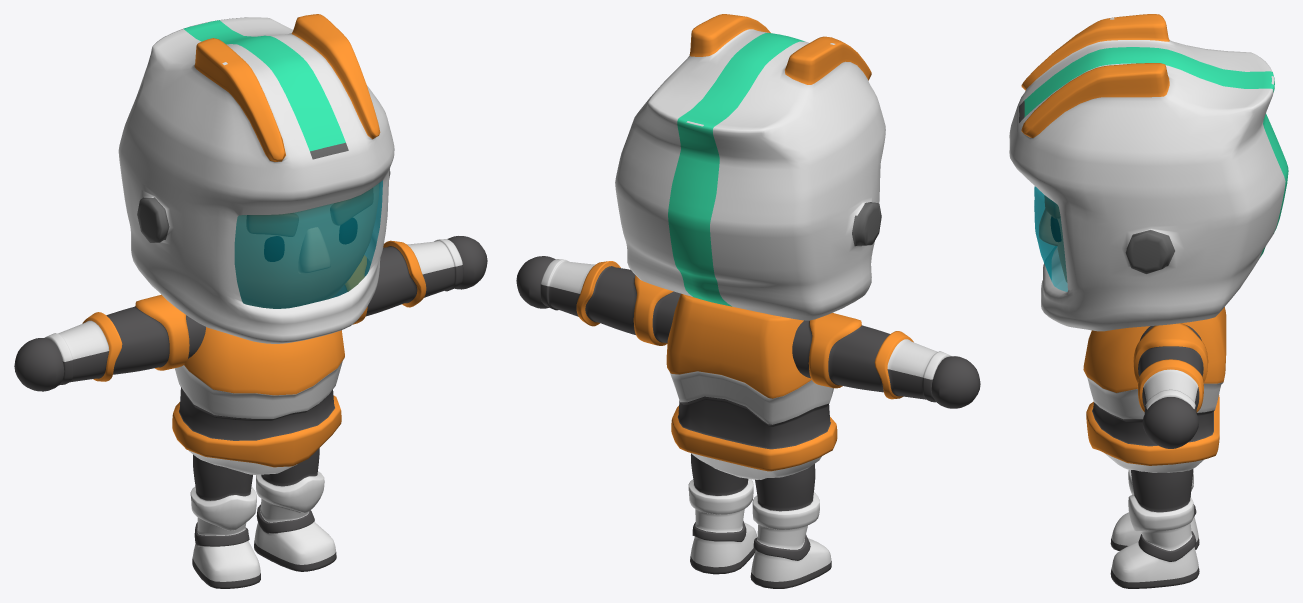
File: 05_CAM TRANG.fbx
3 renders of one model, left to right at view 1: azimuth 30°, elevation 25°; view 2: azimuth 150°, elevation 25°; view 3: azimuth 270°, elevation 25°, orthographic. The views are drawn at different scales.
Visible parts, largest first — view 1: MU, THAN, KINH, DAU; view 2: MU, THAN; view 3: MU, THAN, KINH, DAU.
Boxes of the visible parts, box(x1,y1,x2,y2) form: MU: box(118, 14, 394, 343); THAN: box(14, 236, 487, 588); KINH: box(234, 180, 382, 308); DAU: box(235, 183, 378, 308); MU: box(615, 14, 885, 320); THAN: box(516, 256, 980, 588); MU: box(1009, 14, 1288, 331); THAN: box(1083, 307, 1226, 588); KINH: box(1034, 186, 1067, 291); DAU: box(1039, 195, 1066, 281).
Bounding box in the file's own units: 185 × 201 × 98.35.
